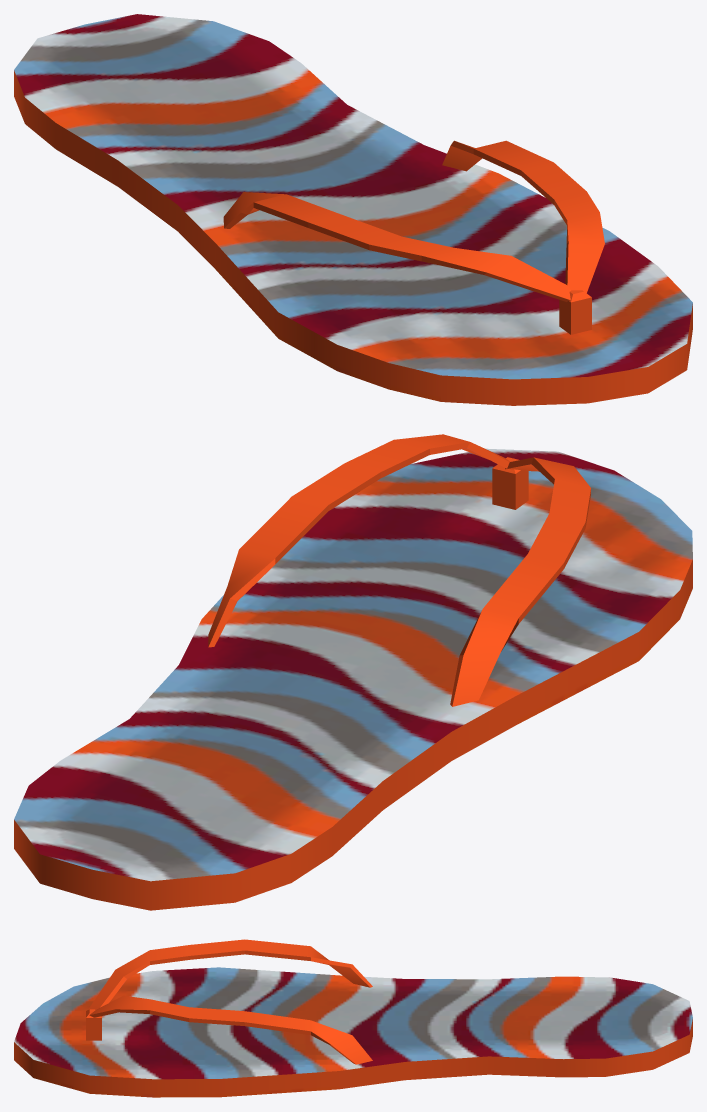
Rendered from p6_beach_sandals_02_right_lod0.glb.
3 renders of one model, top to bottom at view 1: azimuth 30°, elevation 25°; view 2: azimuth 150°, elevation 25°; view 3: azimuth 270°, elevation 25°, orthographic. The views are drawn at different scales.
Parts seen in each view (by area): view 1: surf0; view 2: surf0; view 3: surf0.
Boxes of the visible parts, x1=… form: surf0: x1=14, y1=14, x2=692, y2=405; surf0: x1=14, y1=434, x2=692, y2=910; surf0: x1=14, y1=939, x2=692, y2=1097.
Size of the model in its own units: 5.16 by 1.44 by 13.24.
